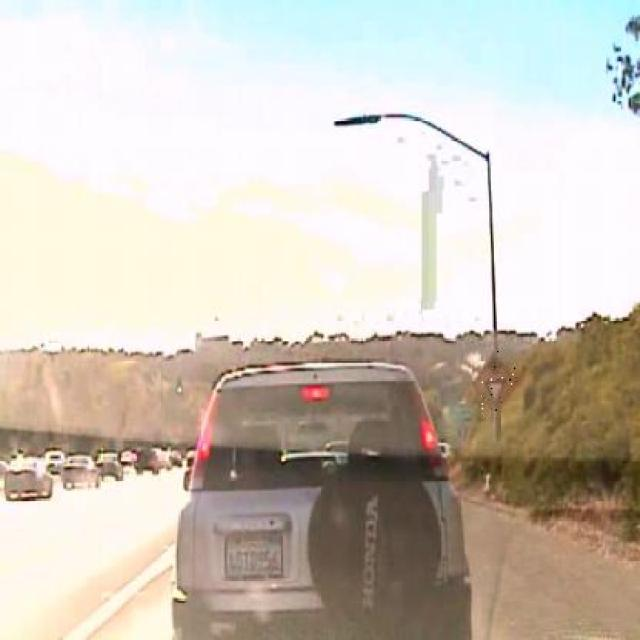yieldAhead: (474, 351, 520, 412)
